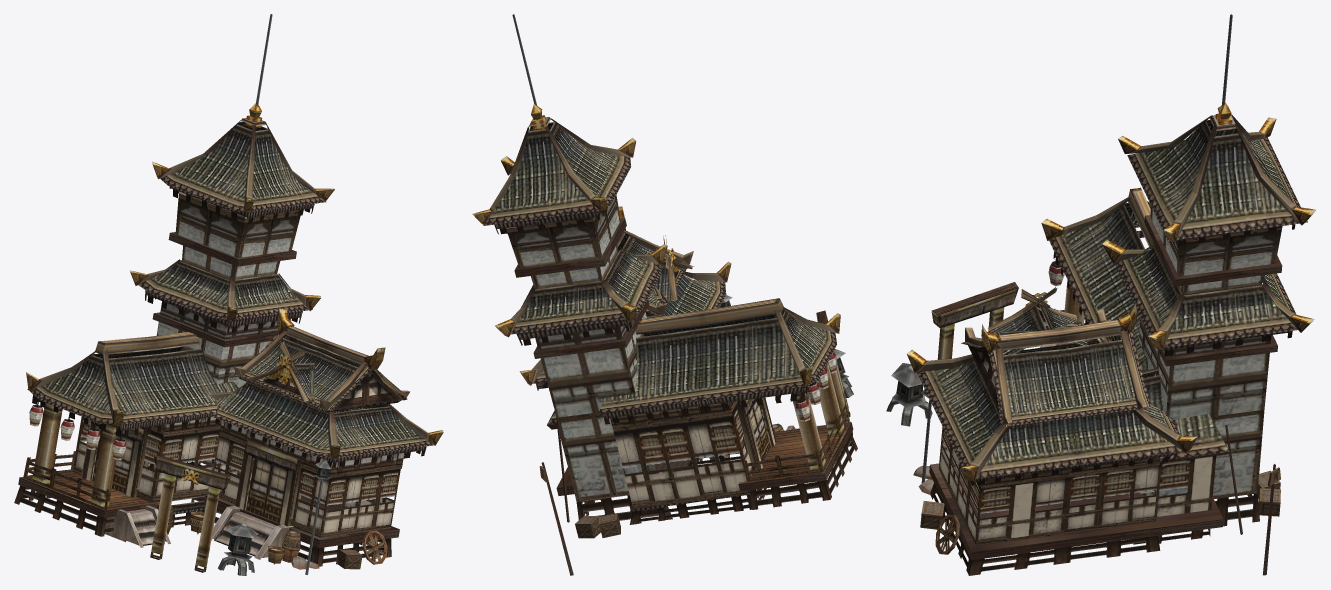
File: japan_towncenter.fbx
3 renders of one model, left to right at view 1: azimuth 30°, elevation 25°; view 2: azimuth 150°, elevation 25°; view 3: azimuth 270°, elevation 25°, orthographic. The views are drawn at different scales.
Parts seen in each view (by area): view 1: Object03, Object01, Object02; view 2: Object03, Object01, Object02; view 3: Object03, Object01, Object02.
Part boxes in pixels (left/top/right/bottom): Object03: left=27, top=118, right=433, bottom=537; Object01: left=14, top=103, right=443, bottom=572; Object02: left=29, top=14, right=387, bottom=575; Object03: left=483, top=117, right=836, bottom=508; Object01: left=472, top=104, right=857, bottom=524; Object02: left=512, top=14, right=853, bottom=575; Object03: left=917, top=115, right=1307, bottom=545; Object01: left=907, top=103, right=1316, bottom=575; Object02: left=886, top=14, right=1280, bottom=575.
Size of the model in its own units: 11.65 by 10.71 by 16.47.
Materials: 2 (2 with a texture image).
